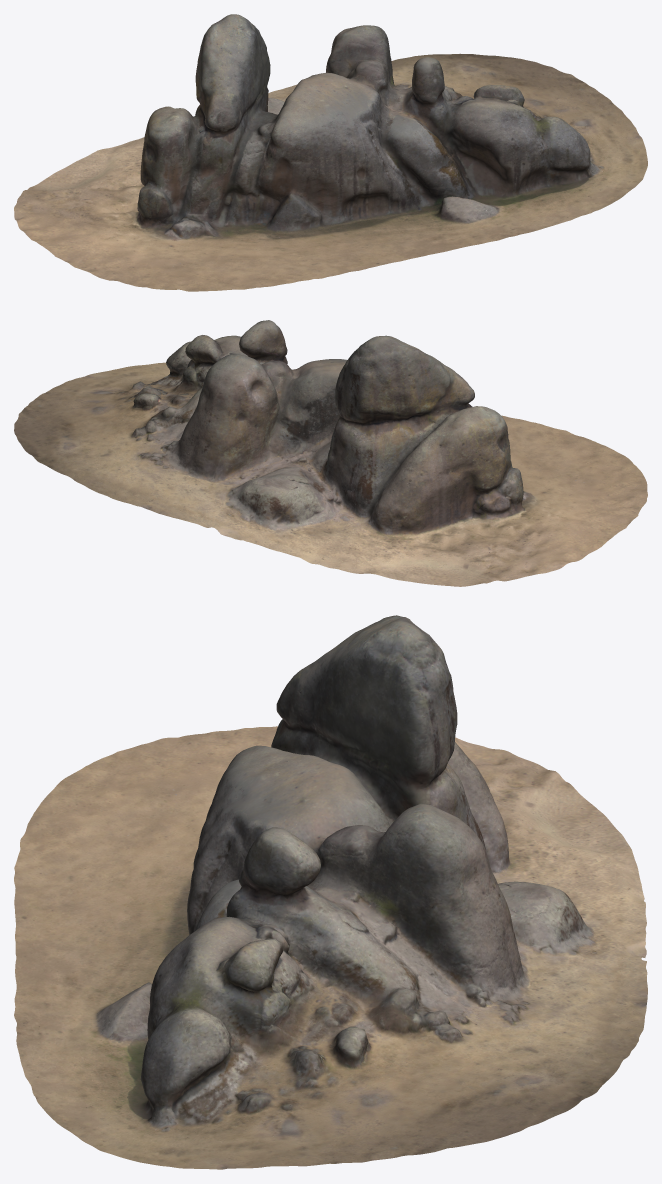
The model's file is LasPedrotas.fbx.
3 views of the same model, one above another, from view 1: azimuth 30°, elevation 25°; view 2: azimuth 150°, elevation 25°; view 3: azimuth 270°, elevation 25° (orthographic). The views are drawn at different scales.
Parts seen in each view (by area): view 1: LasPiedrotas; view 2: LasPiedrotas; view 3: LasPiedrotas.
Part boxes in pixels (box(x1,y1,x2,y2)): LasPiedrotas: box(14, 14, 647, 291); LasPiedrotas: box(14, 320, 647, 586); LasPiedrotas: box(14, 615, 647, 1169).
Bounding box in the file's own units: 3274 × 964 × 1953.
1 material, 1 textured.
